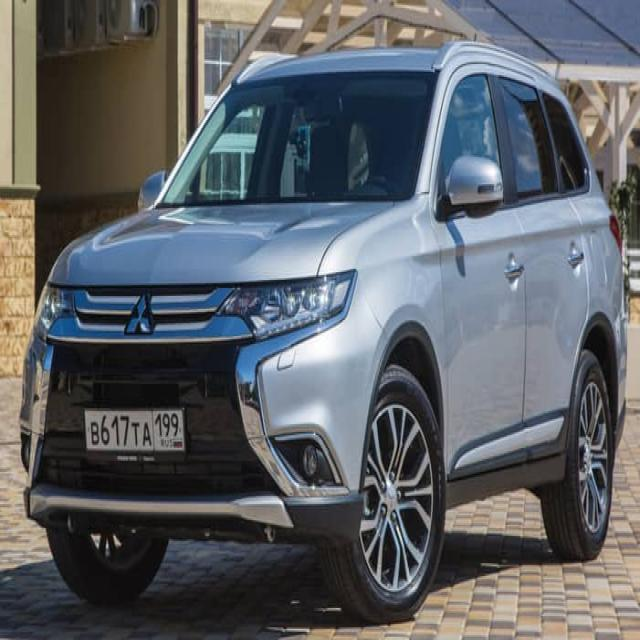light_vehicle: (17, 42, 628, 619)
